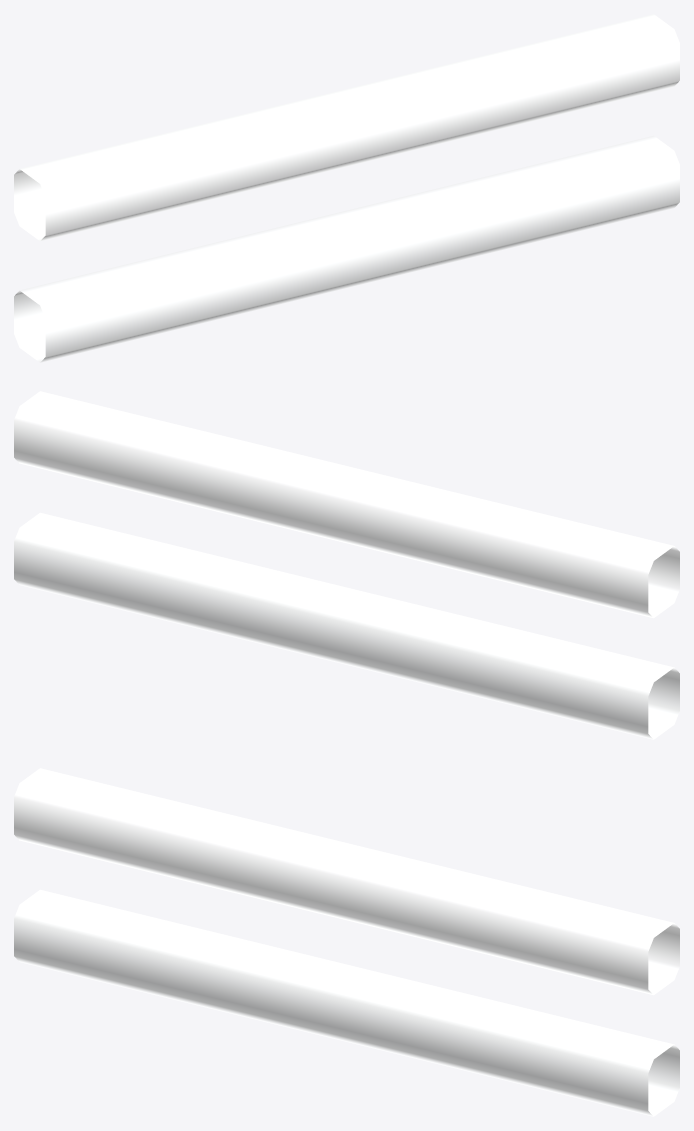
The model's file is Fence_01.glb.
3 views of the same model, one above another, from view 1: azimuth 30°, elevation 25°; view 2: azimuth 150°, elevation 25°; view 3: azimuth 330°, elevation 25° (orthographic).
Visible parts, largest first — view 1: Fence_01; view 2: Fence_01; view 3: Fence_01.
Boxes of the visible parts, box(x1,y1,x2,y2) form: Fence_01: box(14, 14, 679, 362); Fence_01: box(14, 391, 679, 739); Fence_01: box(14, 768, 679, 1116).
Bounding box in the file's own units: 2.23 × 0.6001 × 0.1924.
Materials: 1 (1 with a texture image).
